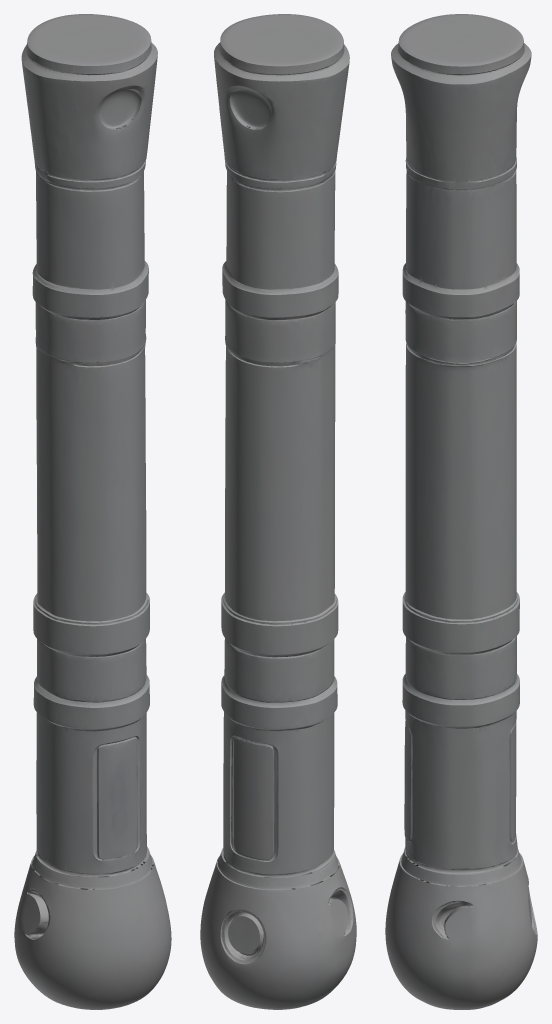
Rendered from saber_hilt.glb.
The picture shows the model from 3 angles, left to right: view 1: azimuth 30°, elevation 25°; view 2: azimuth 150°, elevation 25°; view 3: azimuth 270°, elevation 25°; orthographic projection.
Visible parts, largest first — view 1: model; view 2: model; view 3: model.
Part boxes in pixels (x1,y1,x2,y2): model: [14, 14, 171, 1009]; model: [200, 14, 356, 1009]; model: [385, 14, 537, 1009].
Bounding box in the file's own units: 0.0419 × 0.28 × 0.0407.
1 material, 1 textured.
